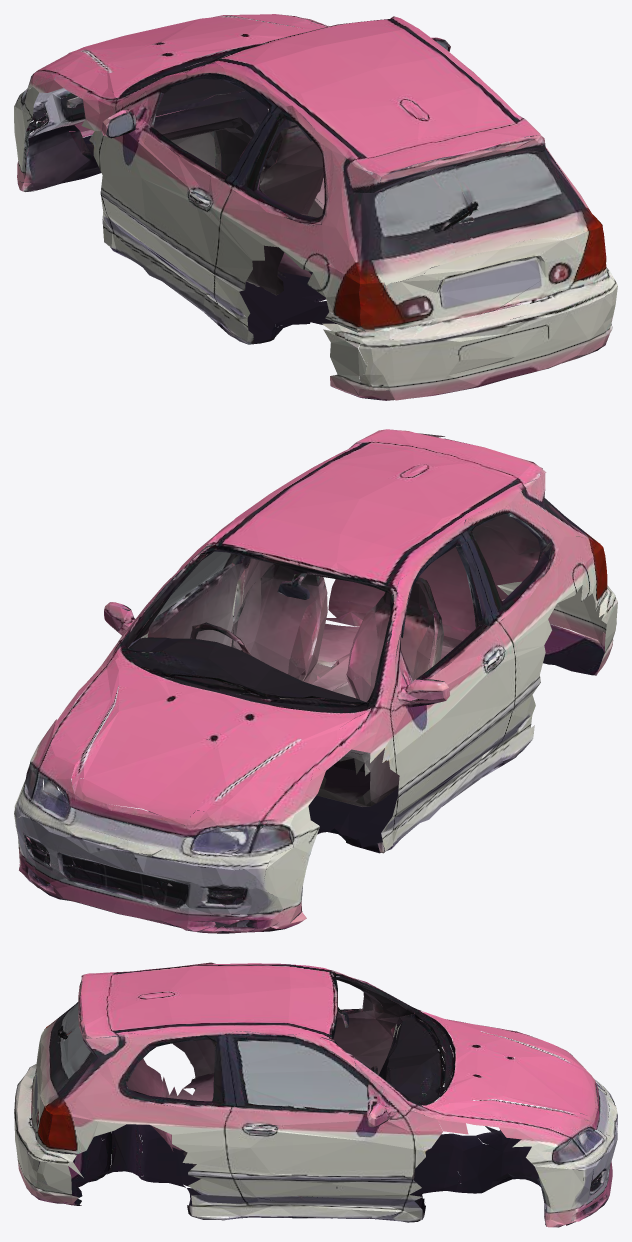
File: car_body.glb
3 renders of one model, top to bottom at view 1: azimuth 30°, elevation 25°; view 2: azimuth 150°, elevation 25°; view 3: azimuth 270°, elevation 25°, orthographic. The views are drawn at different scales.
Visible parts, largest first — view 1: geometry_0; view 2: geometry_0; view 3: geometry_0.
Boxes of the visible parts, <box> form: geometry_0: <box>14,14,617,400</box>; geometry_0: <box>14,429,617,933</box>; geometry_0: <box>14,962,617,1227</box>.
Bounding box in the file's own units: 0.5109 × 0.3391 × 0.9996.
Materials: 1 (1 with a texture image).
